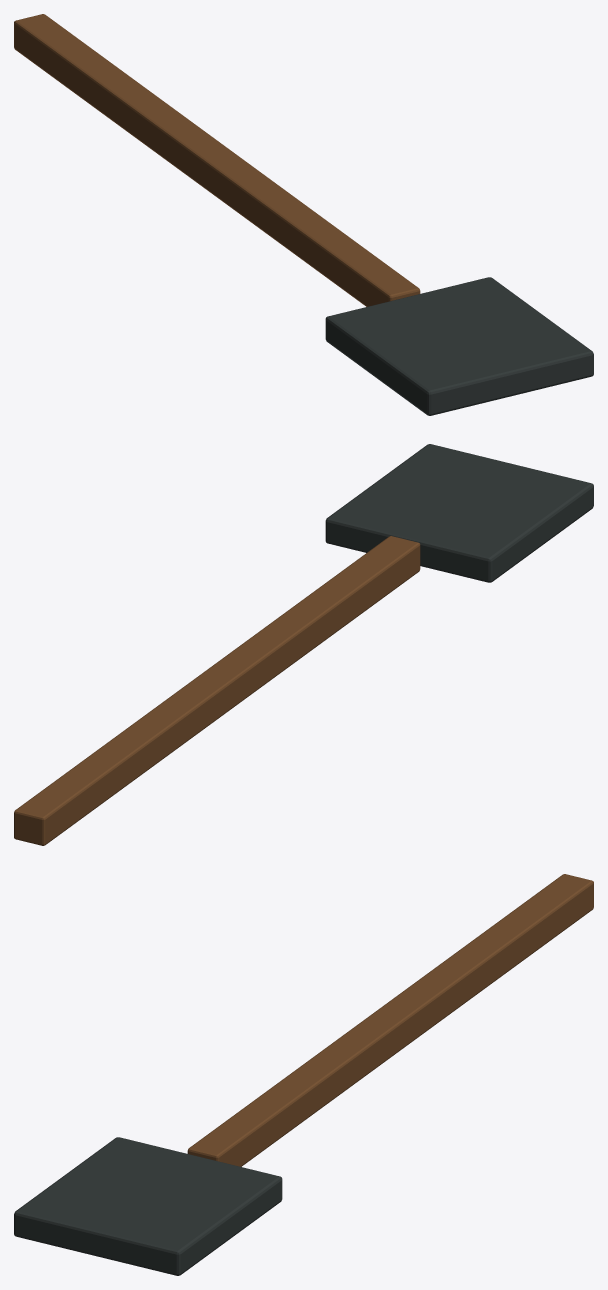
File: levy_pitchfork_LOD2.glb
3 views of the same model, one above another, from view 1: azimuth 30°, elevation 25°; view 2: azimuth 150°, elevation 25°; view 3: azimuth 330°, elevation 25° (orthographic).
Parts seen in each view (by area): view 1: LOD2_Head, LOD2_Haft; view 2: LOD2_Haft, LOD2_Head; view 3: LOD2_Head, LOD2_Haft.
Boxes of the visible parts, x1,y1,x2,y2 form: LOD2_Head: [325, 277, 593, 415]; LOD2_Haft: [14, 14, 420, 306]; LOD2_Haft: [14, 536, 420, 845]; LOD2_Head: [325, 444, 593, 582]; LOD2_Head: [14, 1137, 282, 1275]; LOD2_Haft: [187, 874, 593, 1166].
Size of the model in its own units: 0.48 by 0.08 by 2.41.
